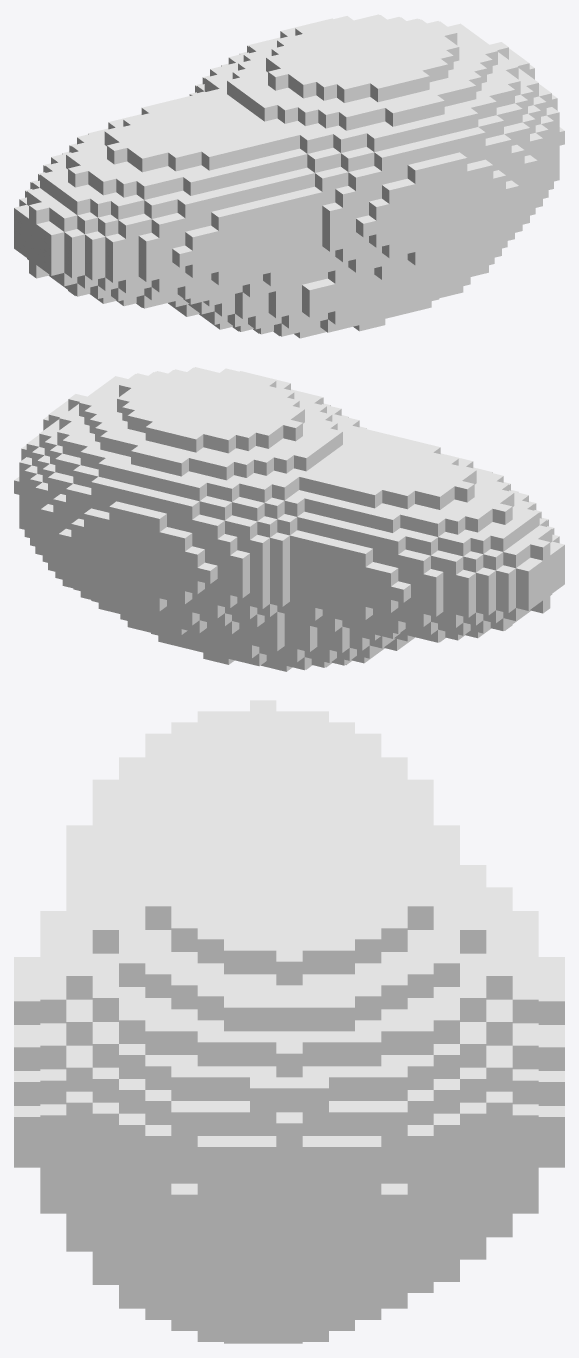
Rendered from Cloud3.fbx.
3 views of the same model, one above another, from view 1: azimuth 30°, elevation 25°; view 2: azimuth 150°, elevation 25°; view 3: azimuth 270°, elevation 25° (orthographic). The views are drawn at different scales.
Visible parts, largest first — view 1: Sphere; view 2: Sphere; view 3: Sphere.
Boxes of the visible parts, x1=… form: Sphere: x1=14, y1=14, x2=564, y2=338; Sphere: x1=14, y1=367, x2=564, y2=671; Sphere: x1=14, y1=700, x2=564, y2=1343.
Size of the model in its own units: 39 by 17 by 21.
1 material, 1 textured.
